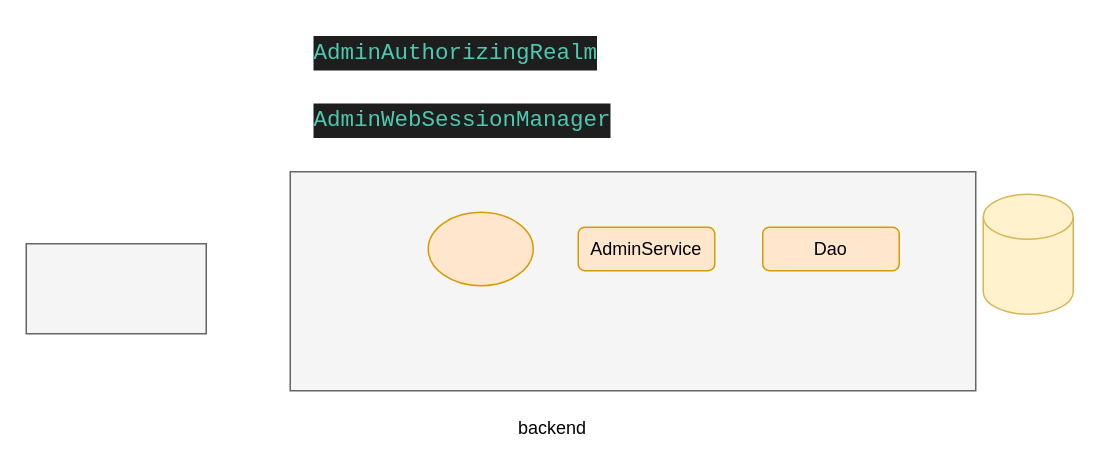
Image size: 1100x476. Some labels were removed from this diagram. Here are the shapes that lost their labels. From the top down, the box of each, then its label:
(427, 211, 533, 286): Shiro
(25, 242, 206, 334): frontend
